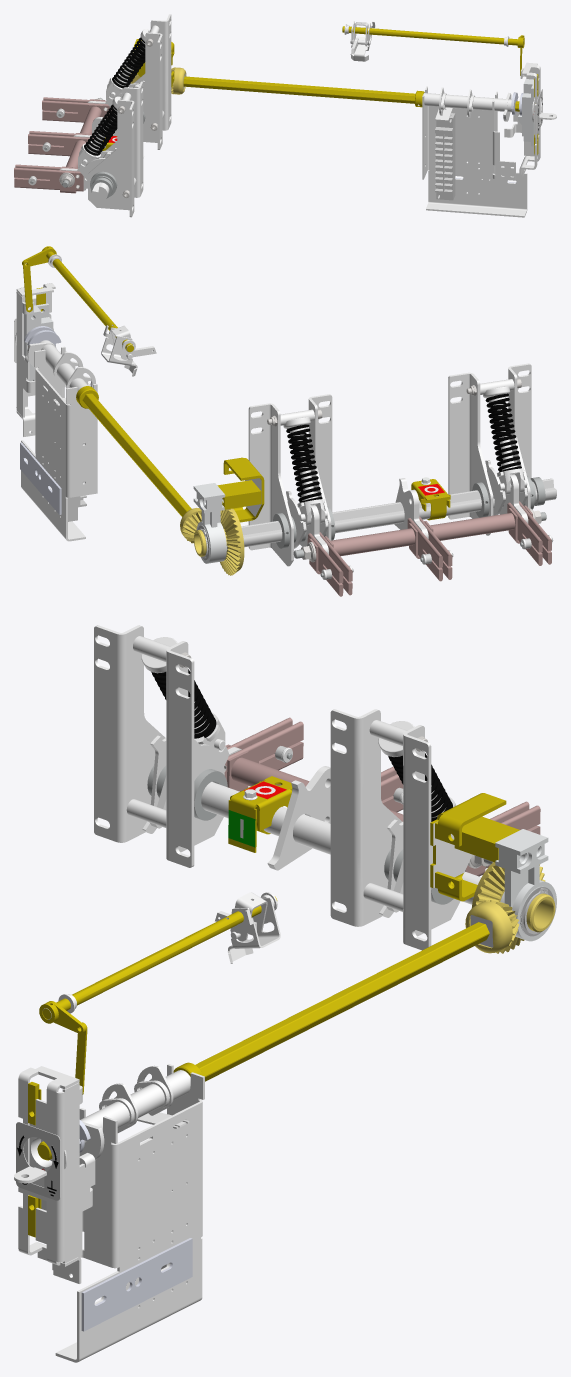
Rendered from 11_bystrodeystvuyushchiy-zazemlyayushchiy-razedinitel-zr-10.glb.
3 views of the same model, one above another, from view 1: azimuth 30°, elevation 25°; view 2: azimuth 150°, elevation 25°; view 3: azimuth 270°, elevation 25° (orthographic). The views are drawn at different scales.
Visible parts, largest first — view 1: 11_bystrodeystvuyushchiy-zazemlyayushchiy-razedinitel-zr-10; view 2: 11_bystrodeystvuyushchiy-zazemlyayushchiy-razedinitel-zr-10; view 3: 11_bystrodeystvuyushchiy-zazemlyayushchiy-razedinitel-zr-10.
Boxes of the visible parts, x1,y1,x2,y2 form: 11_bystrodeystvuyushchiy-zazemlyayushchiy-razedinitel-zr-10: (14,14,556,217); 11_bystrodeystvuyushchiy-zazemlyayushchiy-razedinitel-zr-10: (14,246,556,596); 11_bystrodeystvuyushchiy-zazemlyayushchiy-razedinitel-zr-10: (14,625,556,1362).
Bounding box in the file's own units: 1.02 × 0.399 × 0.527.
